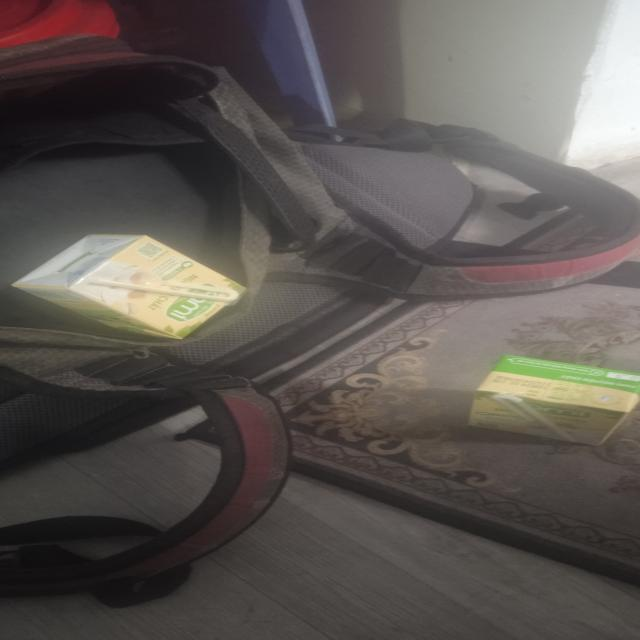Fami: (14, 235, 255, 342), (468, 356, 640, 449)
